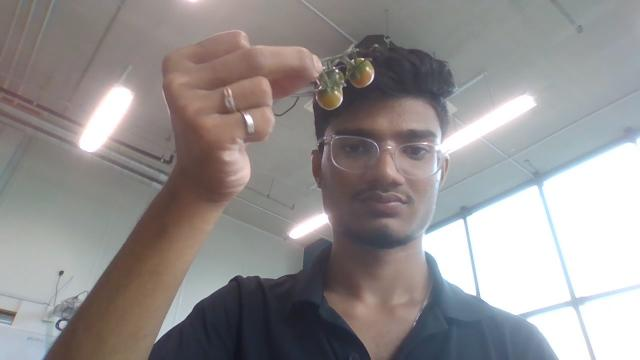Fully Grown: (347, 58, 375, 88), (316, 84, 343, 110)
